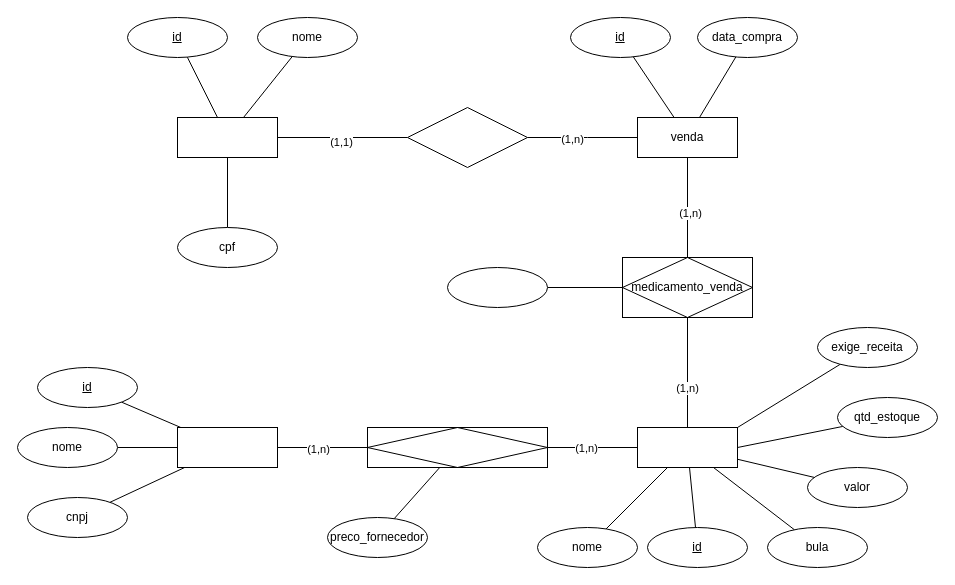
This 955x585 diagram has some shape labels left out. Each missing label, with the centre of its shape:
cliente: point 227,137
compra: point 467,137
fornecedor: point 227,447
fornecedor_medicamento: point 457,447
medicamento: point 687,447
qtd_vendida: point 497,287
